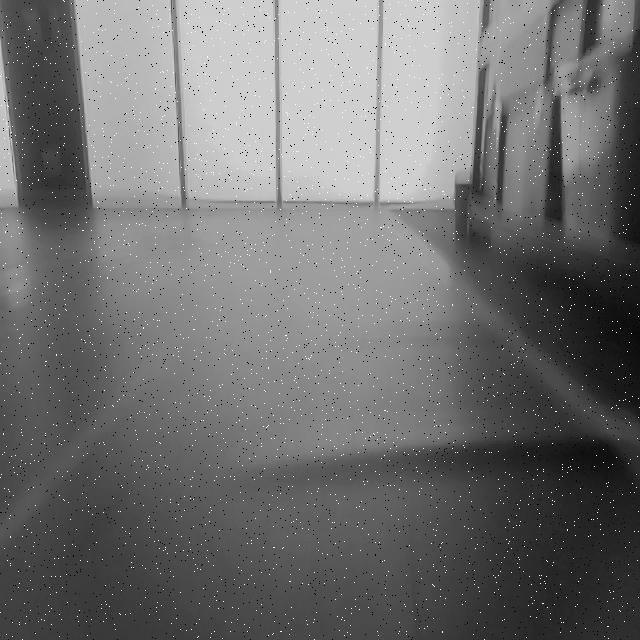left_lane: (1, 280, 220, 551)
right_lane: (387, 214, 640, 487)
